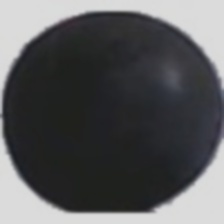grapes: (42, 23, 187, 178)
